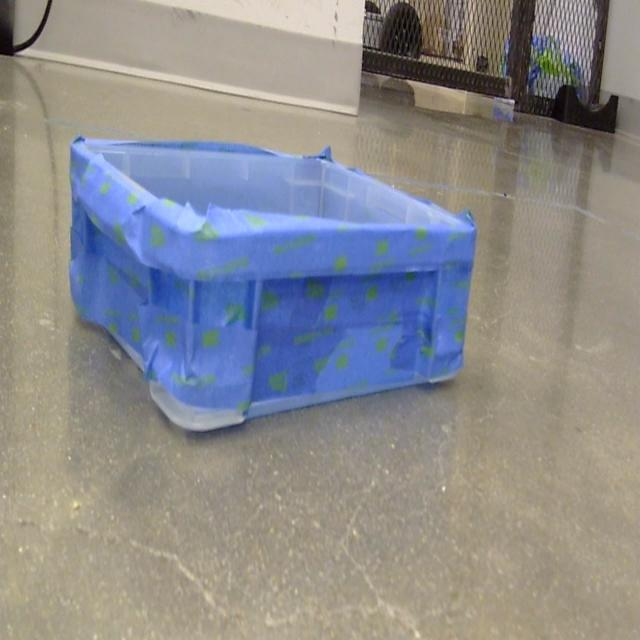bucket: (68, 137, 478, 436)
